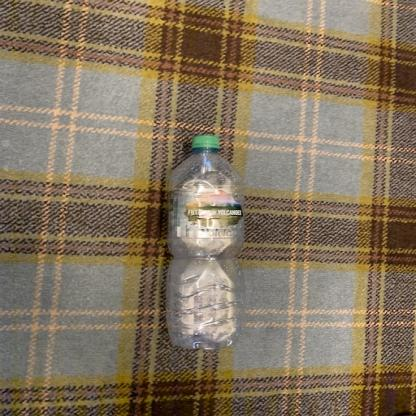trash: (165, 134, 244, 348)
